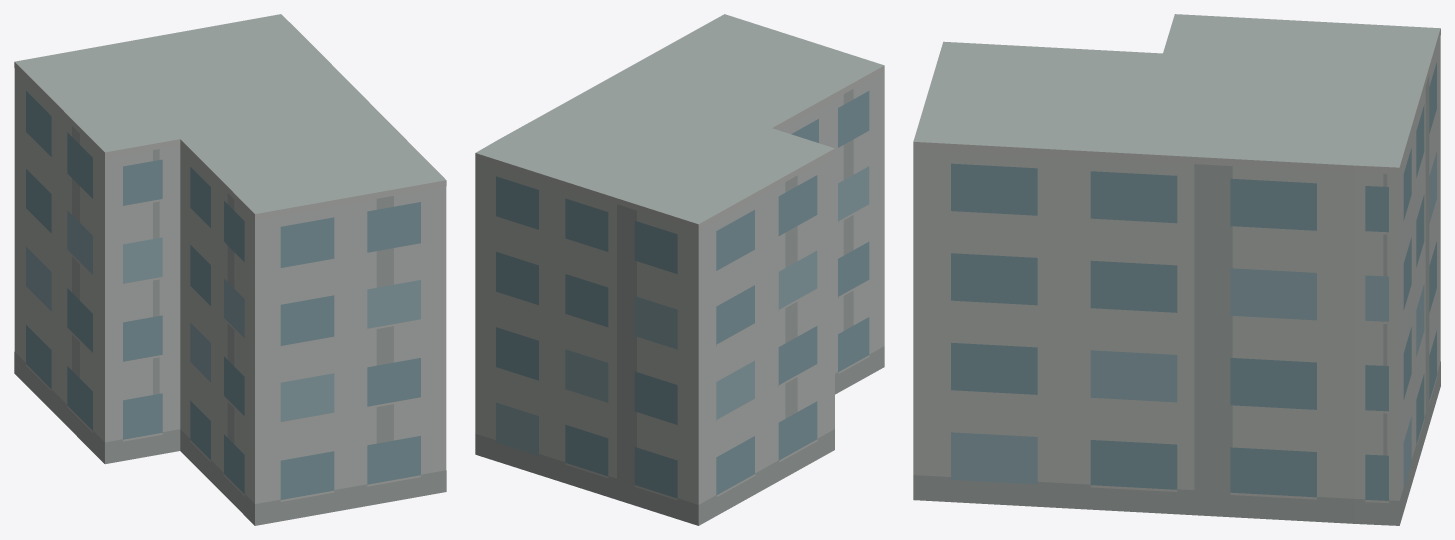
The model's file is residential-e5a41da4-85d7-42e2-8388-1bf6b2c69935.glb.
3 views of the same model, side by side, from view 1: azimuth 30°, elevation 25°; view 2: azimuth 150°, elevation 25°; view 3: azimuth 270°, elevation 25° (orthographic). The views are drawn at different scales.
Visible parts, largest first — view 1: residential-e5a41da4-85d7-42e2-8388-1bf6b2c69935.tmp; view 2: residential-e5a41da4-85d7-42e2-8388-1bf6b2c69935.tmp; view 3: residential-e5a41da4-85d7-42e2-8388-1bf6b2c69935.tmp.
Boxes of the visible parts, left/top/right/bottom form: residential-e5a41da4-85d7-42e2-8388-1bf6b2c69935.tmp: left=14, top=14, right=446, bottom=525; residential-e5a41da4-85d7-42e2-8388-1bf6b2c69935.tmp: left=475, top=14, right=884, bottom=525; residential-e5a41da4-85d7-42e2-8388-1bf6b2c69935.tmp: left=913, top=14, right=1440, bottom=525.
Size of the model in its own units: 11.23 by 12.2 by 16.29.
